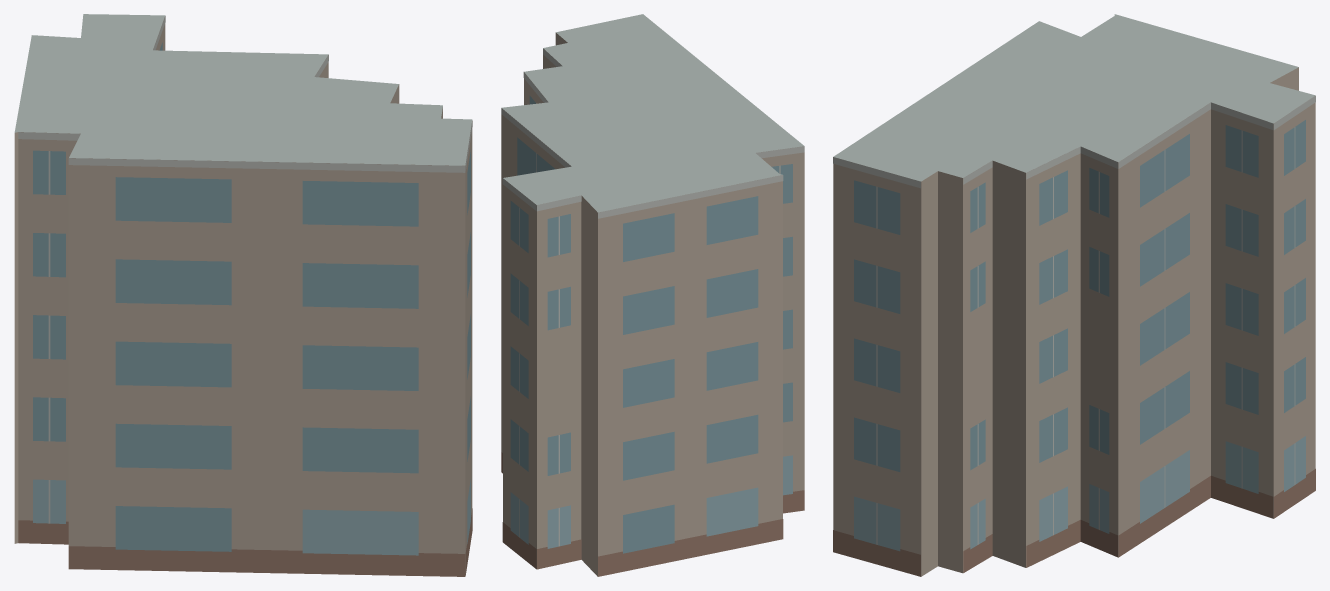
Rendered from survey-upis-32877905.glb.
3 views of the same model, side by side, from view 1: azimuth 30°, elevation 25°; view 2: azimuth 150°, elevation 25°; view 3: azimuth 270°, elevation 25° (orthographic). The views are drawn at different scales.
Parts seen in each view (by area): view 1: survey-upis-32877905.tmp; view 2: survey-upis-32877905.tmp; view 3: survey-upis-32877905.tmp.
Part boxes in pixels (bbox=[...]): survey-upis-32877905.tmp: bbox=[14, 14, 472, 576]; survey-upis-32877905.tmp: bbox=[501, 14, 804, 576]; survey-upis-32877905.tmp: bbox=[833, 14, 1315, 576].
Bounding box in the file's own units: 12.88 × 14.15 × 15.67.
